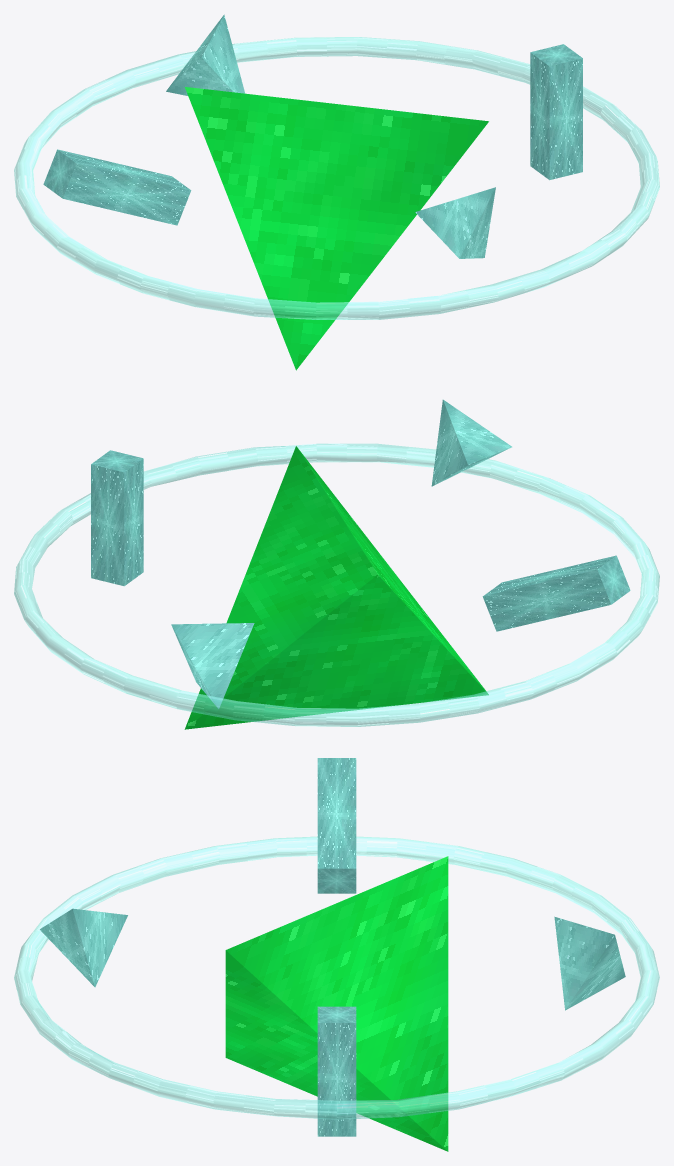
File: anomaly-cluster-green.medium.glb
3 views of the same model, one above another, from view 1: azimuth 30°, elevation 25°; view 2: azimuth 150°, elevation 25°; view 3: azimuth 270°, elevation 25° (orthographic).
Visible parts, largest first — view 1: shell, ring, orbital-0; view 2: shell, ring, orbital-0; view 3: shell, ring, orbital-0.
Part boxes in pixels (x1,y1,x2,y2): shell: (185,87,488,370); ring: (14,37,659,319); orbital-0: (43,14,582,258); shell: (184,446,488,729); ring: (14,443,659,726); orbital-0: (91,399,630,708); shell: (225,856,448,1151); ring: (14,836,659,1119); orbital-0: (40,758,625,1136).
Size of the model in its own units: 2.7 by 0.9856 by 2.68.
Materials: 3 (3 with a texture image).
